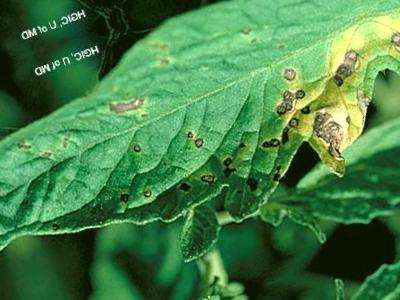Tomato Early blight leaf: (0, 0, 400, 287)
